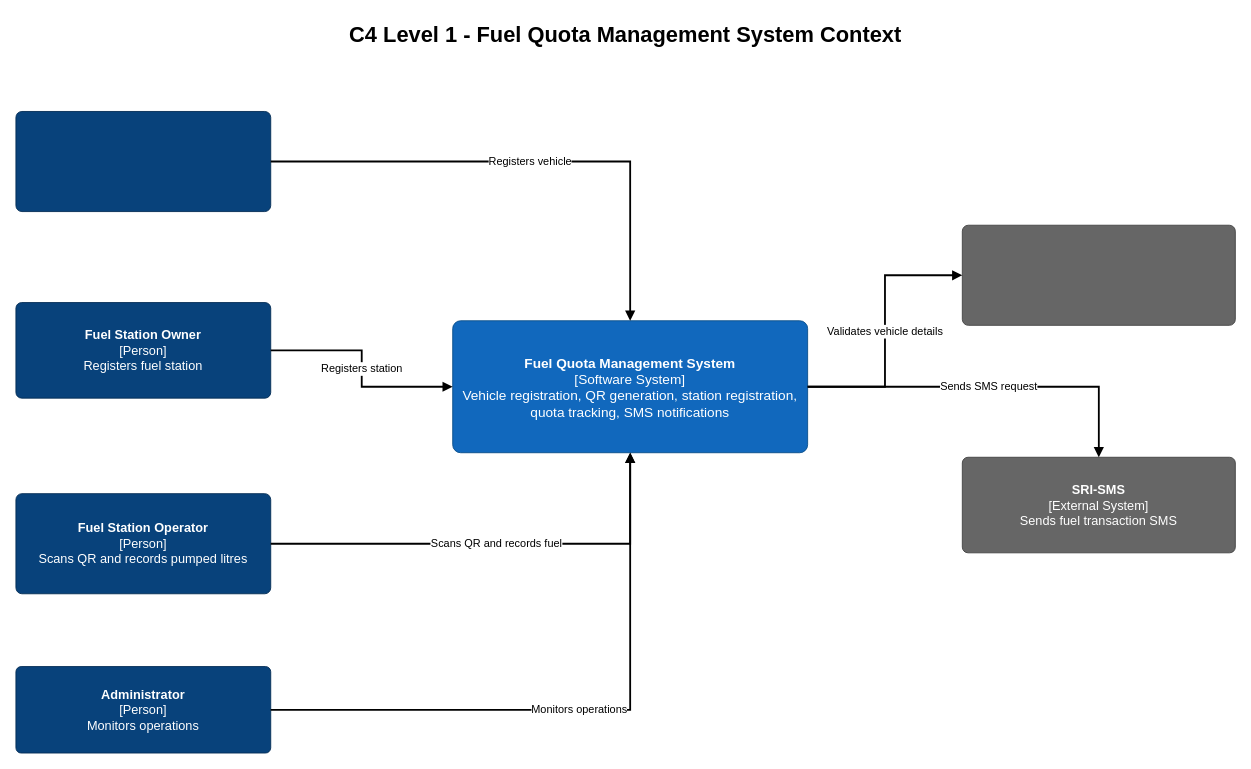
Image size: 1251x769. Some labels were removed from this diagram. Each missing label, with the box of its shape:
Department of Motor Traffic DB [External System] Validates vehicle details: (961, 224, 1235, 325)
Vehicle Owner [Person] Registers vehicle and receives SMS: (15, 111, 271, 212)
